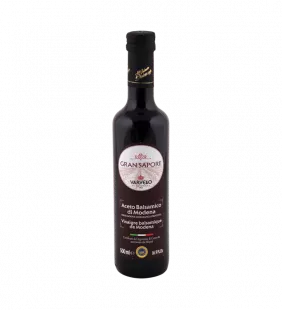VARVELLO: (107, 20, 180, 283)
